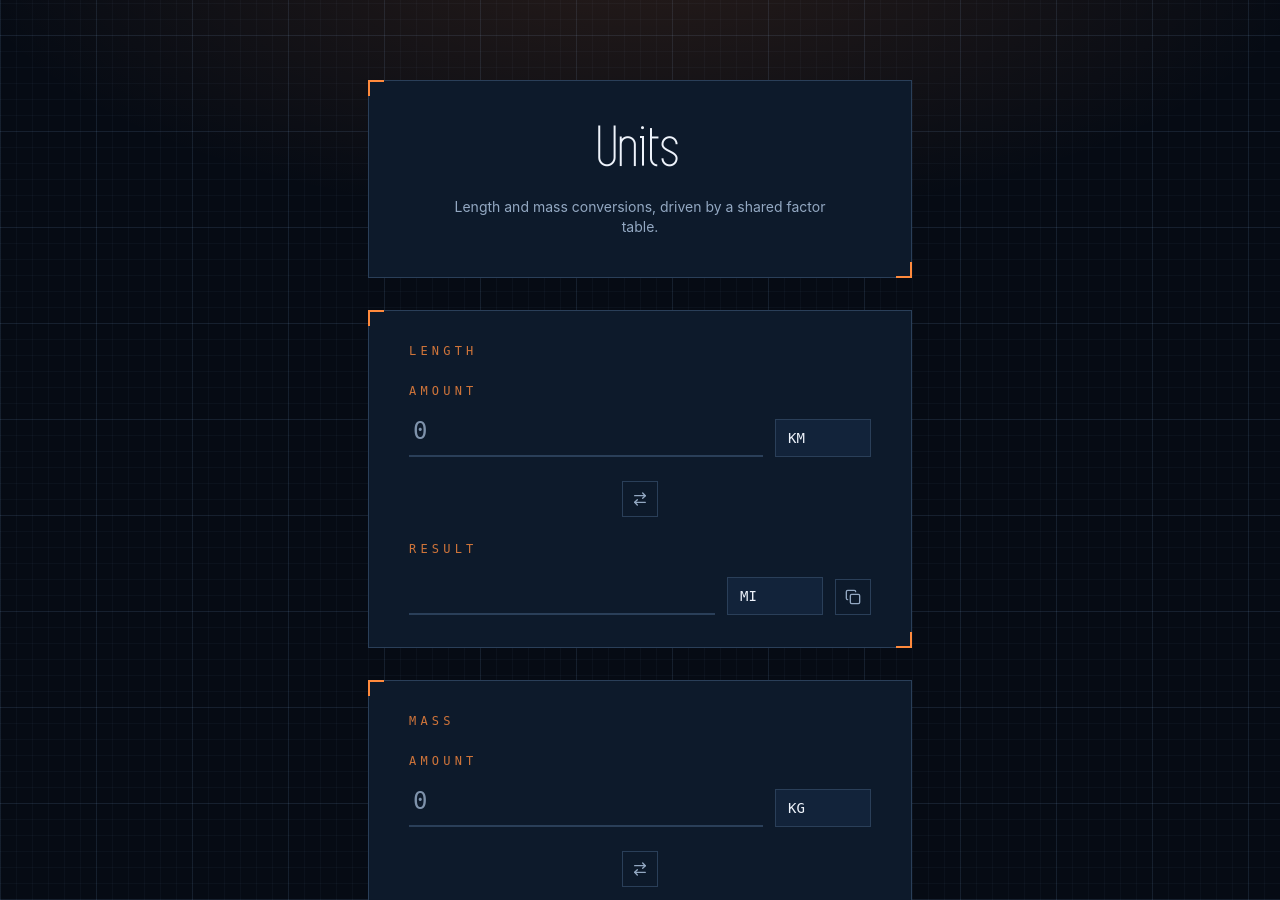
Test case: UnitsView › converts an entered length amount using the default units (km to mi)
The image size is (1280, 900).
Type "10" into the number field with id "length-value". click: (586, 432)
box: [409,407,763,457]
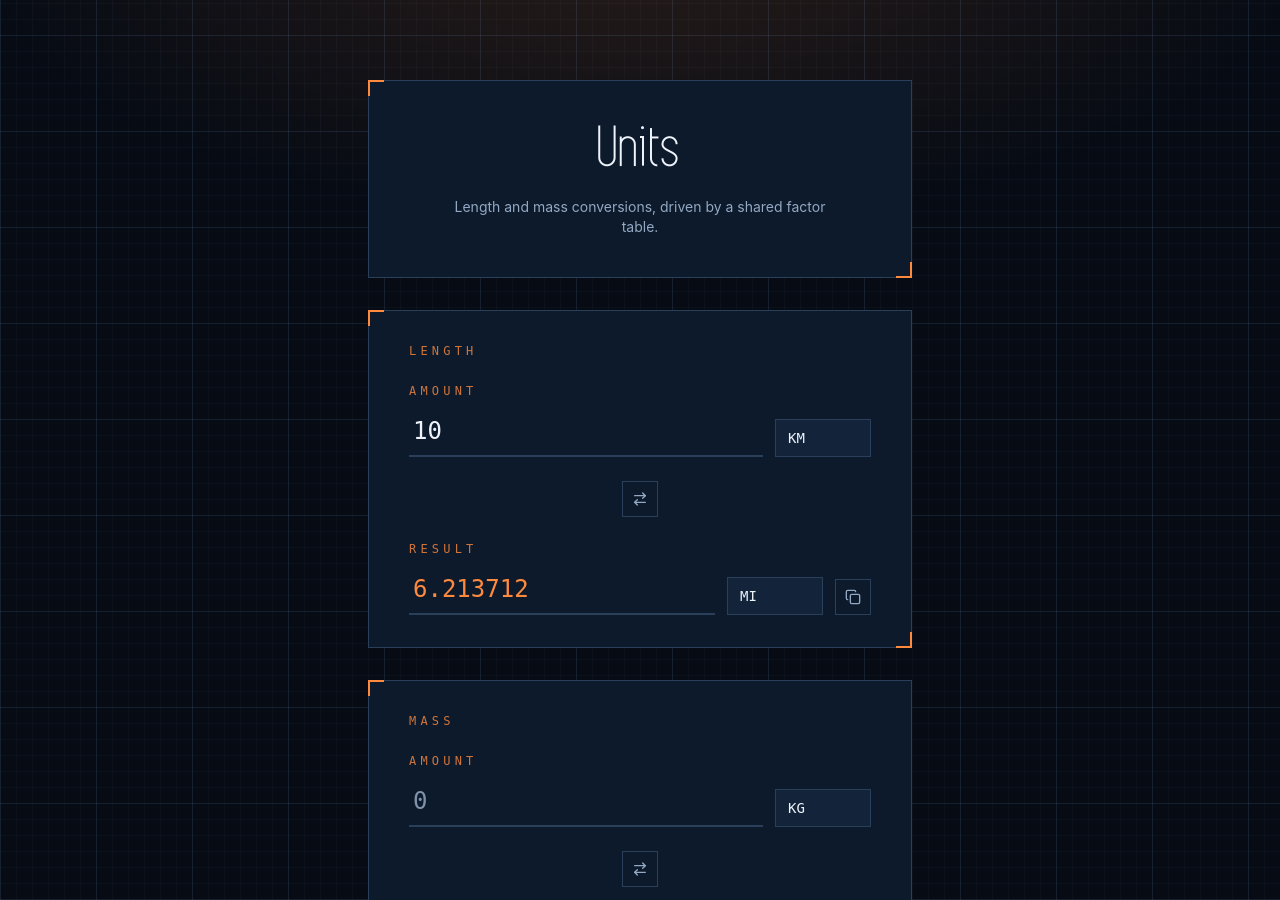
Expected: the field with id "length-result" holds "6.213712", [409,565,715,615]
